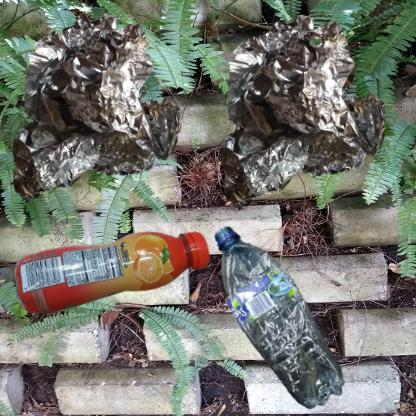aluminio: (213, 10, 392, 213), (10, 10, 185, 209)
botella: (213, 213, 355, 416), (10, 213, 223, 336)
